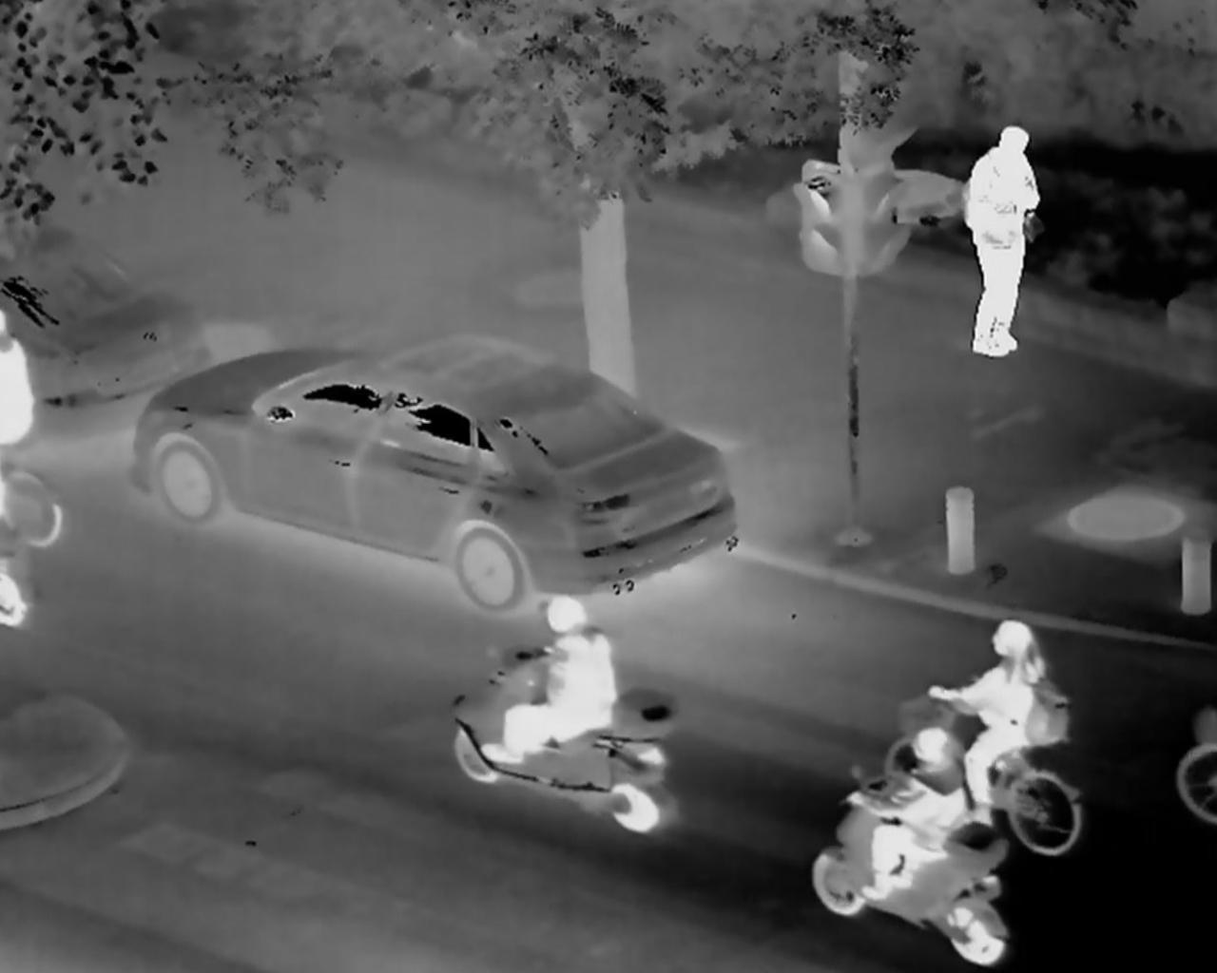person: (915, 603, 1072, 827), (485, 596, 628, 792), (852, 717, 976, 928), (946, 118, 1041, 353), (4, 310, 66, 478)
